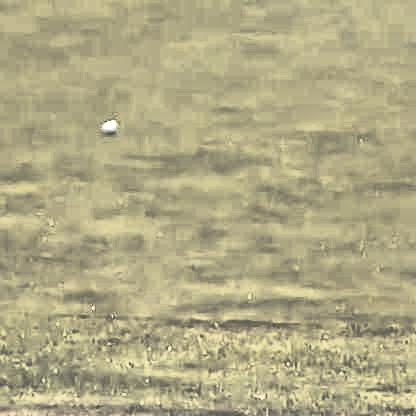golfball: (98, 116, 115, 133)
